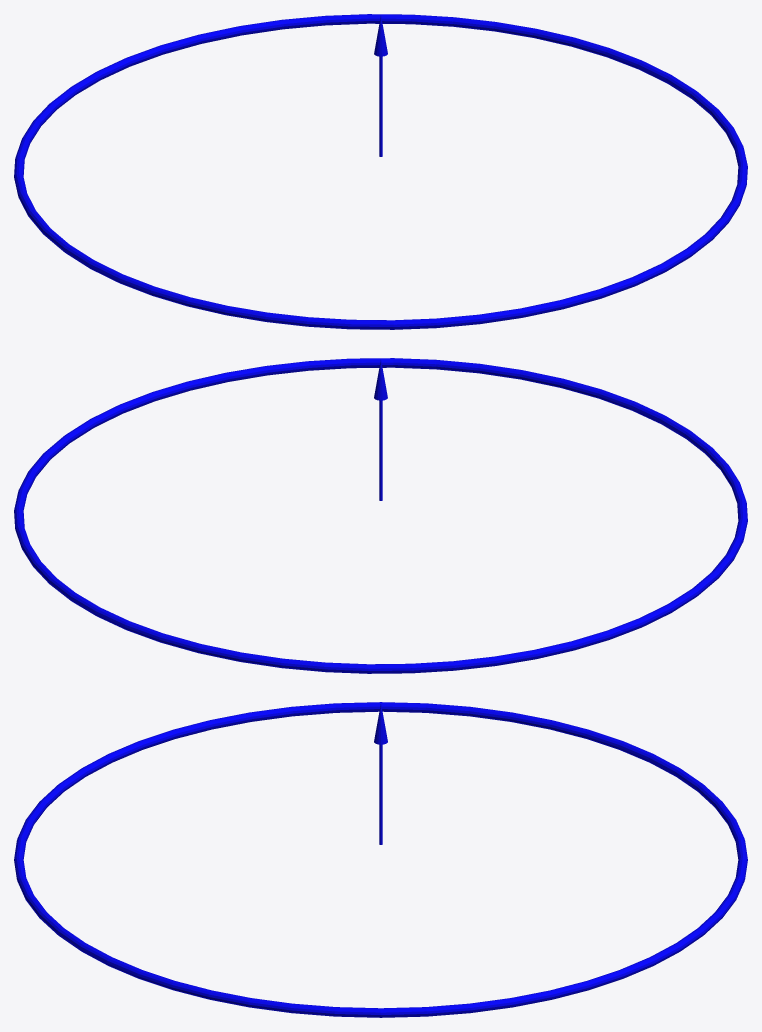
Rendered from Rotate_Z.glb.
3 renders of one model, top to bottom at view 1: azimuth 30°, elevation 25°; view 2: azimuth 150°, elevation 25°; view 3: azimuth 270°, elevation 25°, orthographic.
Visible parts, largest first — view 1: Rotate_Z; view 2: Rotate_Z; view 3: Rotate_Z.
Boxes of the visible parts, <box> form: Rotate_Z: <box>14,14,747,329</box>; Rotate_Z: <box>14,358,747,673</box>; Rotate_Z: <box>14,702,747,1017</box>.
Bounding box in the file's own units: 0.304 × 0.0738 × 0.304.
